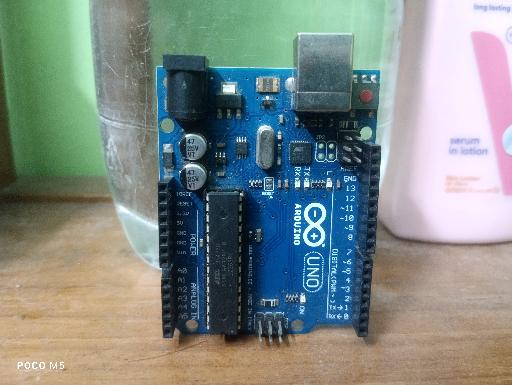Arduino: (154, 31, 383, 343)
